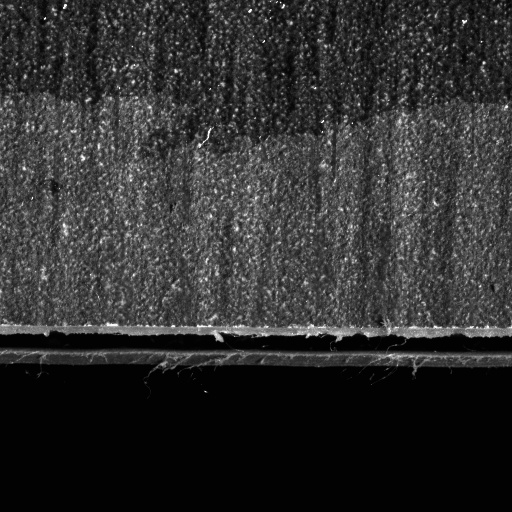kaijiao: (0, 318, 511, 372)
